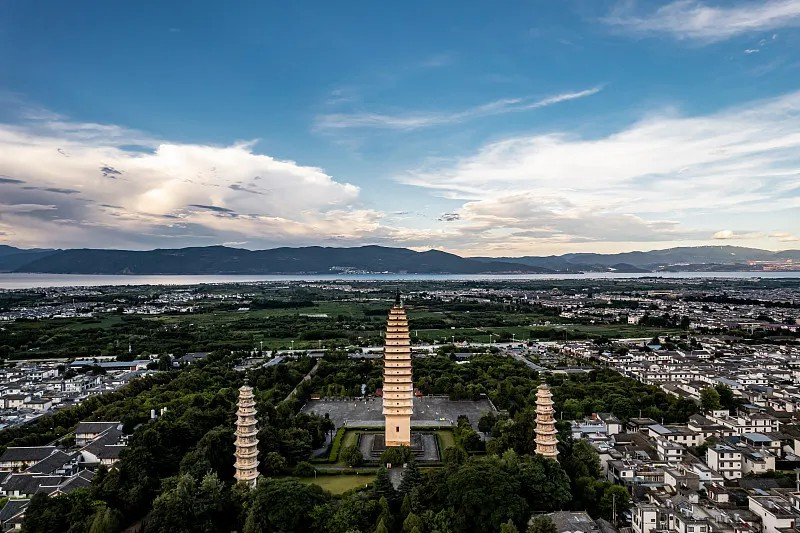ThreePagoda: (382, 289, 413, 446)
